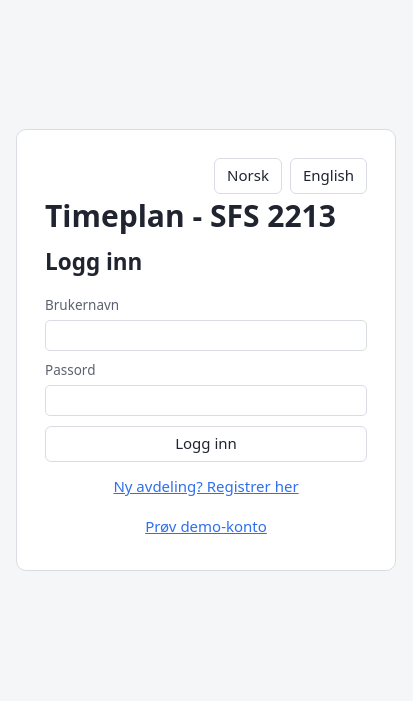
Test case: InnloggingPanel › bytter til registreringsskjema
Click the button "Ny avdeling? Registrer her": coordinates (206, 487) [45,472,367,502]
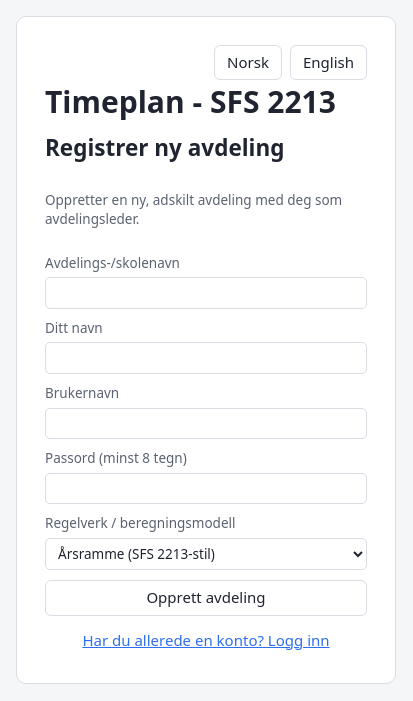
Now the heading "Registrer ny avdeling" is shown, box [45,132,284,163]
